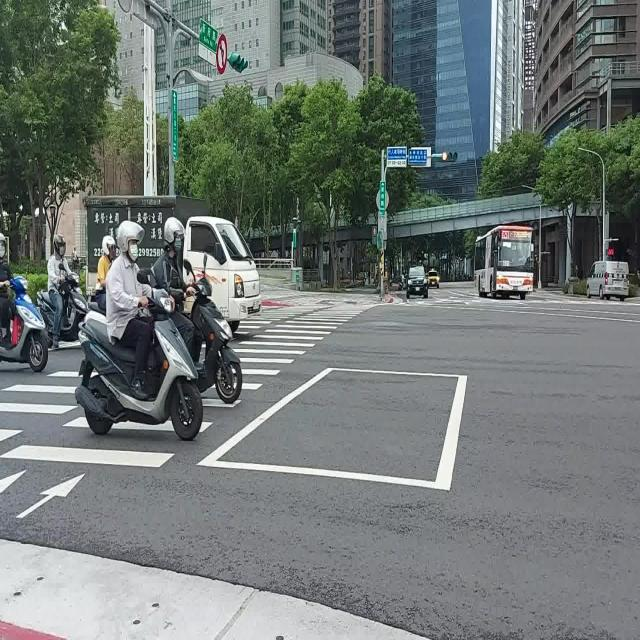bus: (475, 224, 534, 300)
car: (586, 260, 629, 300), (406, 264, 428, 298), (426, 269, 440, 288)
crosswalk: (233, 303, 374, 391), (238, 304, 332, 338)
motocycle: (76, 284, 205, 441), (190, 276, 246, 412), (37, 269, 89, 347)
trunk: (85, 196, 261, 329)
